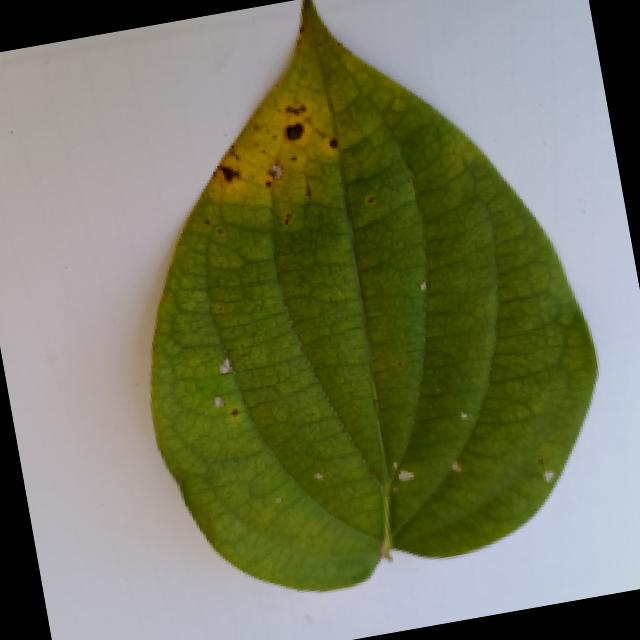slow-decline: (55, 0, 640, 615)
